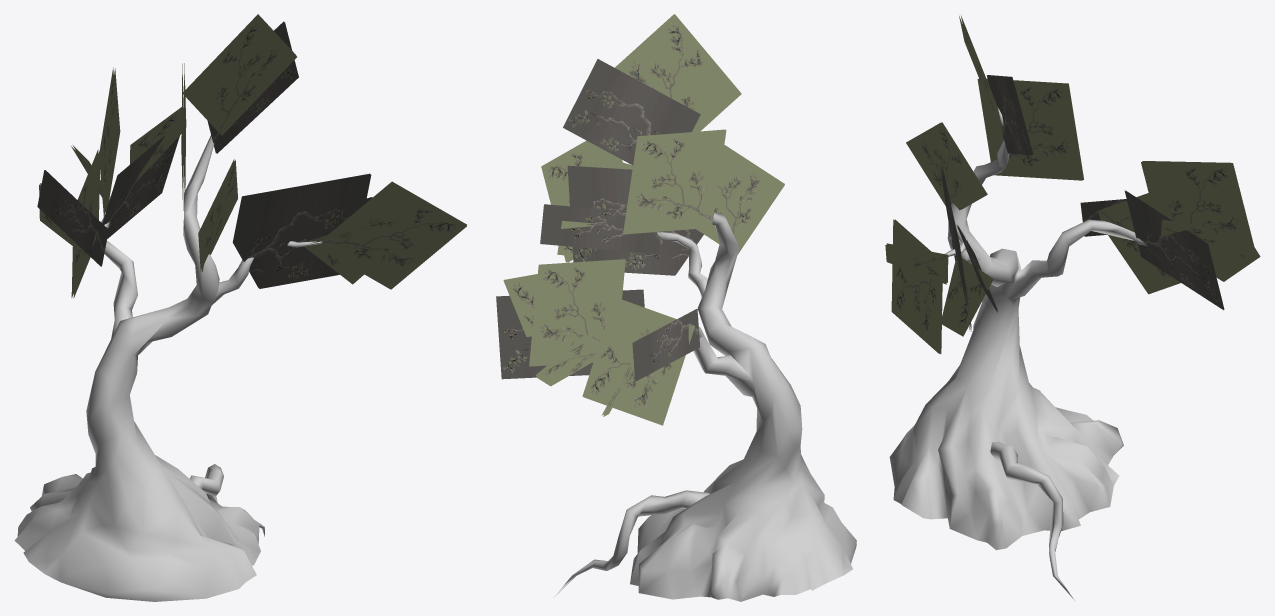
The model's file is Swamp_Tree_Bent_A.fbx.
3 renders of one model, left to right at view 1: azimuth 30°, elevation 25°; view 2: azimuth 150°, elevation 25°; view 3: azimuth 270°, elevation 25°, orthographic. The views are drawn at different scales.
Parts seen in each view (by area): view 1: Swamp_Tree_Bent_A; view 2: Swamp_Tree_Bent_A; view 3: Swamp_Tree_Bent_A.
Boxes of the visible parts, x1=… form: Swamp_Tree_Bent_A: x1=14, y1=14, x2=466, y2=601; Swamp_Tree_Bent_A: x1=496, y1=14, x2=856, y2=601; Swamp_Tree_Bent_A: x1=885, y1=15, x2=1260, y2=600.
Bounding box in the file's own units: 248 × 366 × 224.
